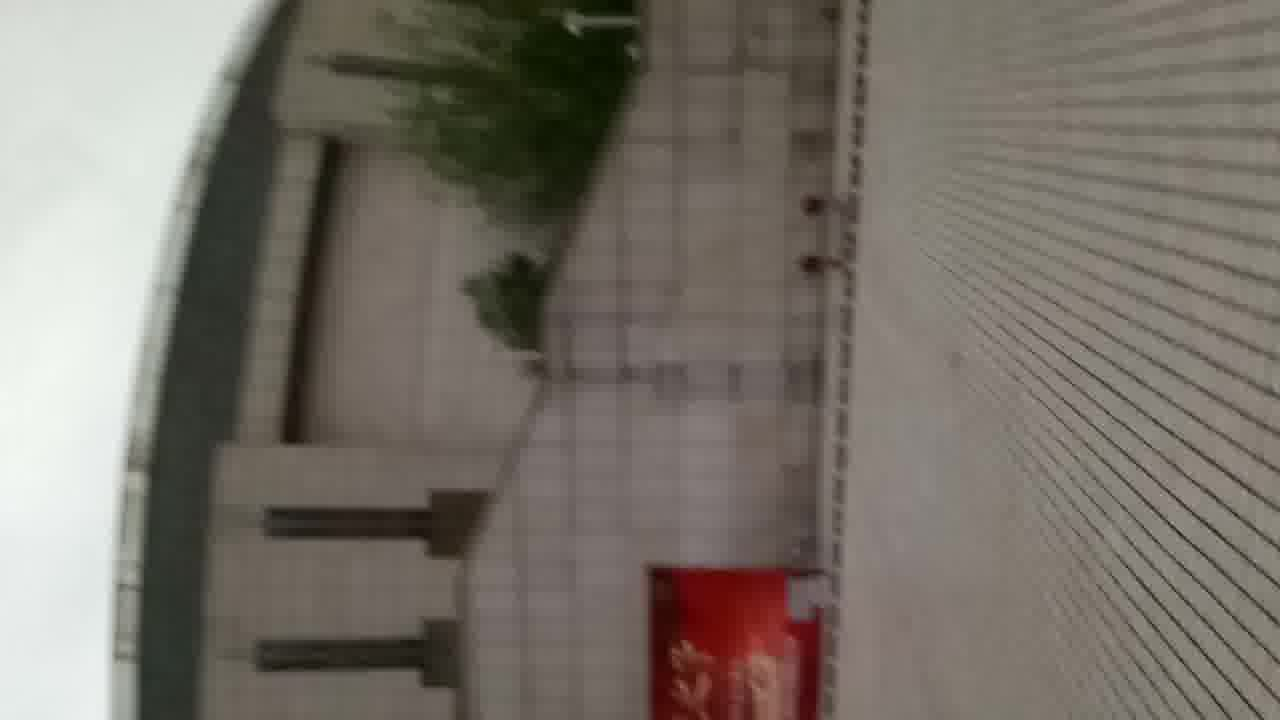zhongtiww: (108, 16, 839, 720)
